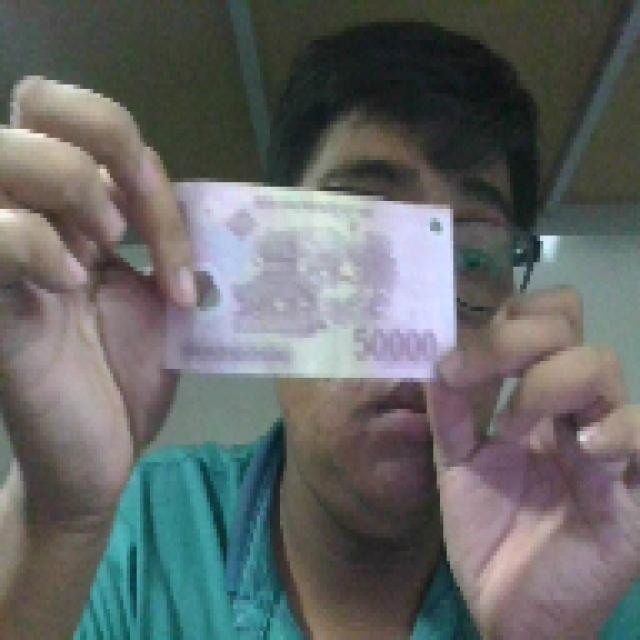50 000 VND: (153, 173, 460, 387)
